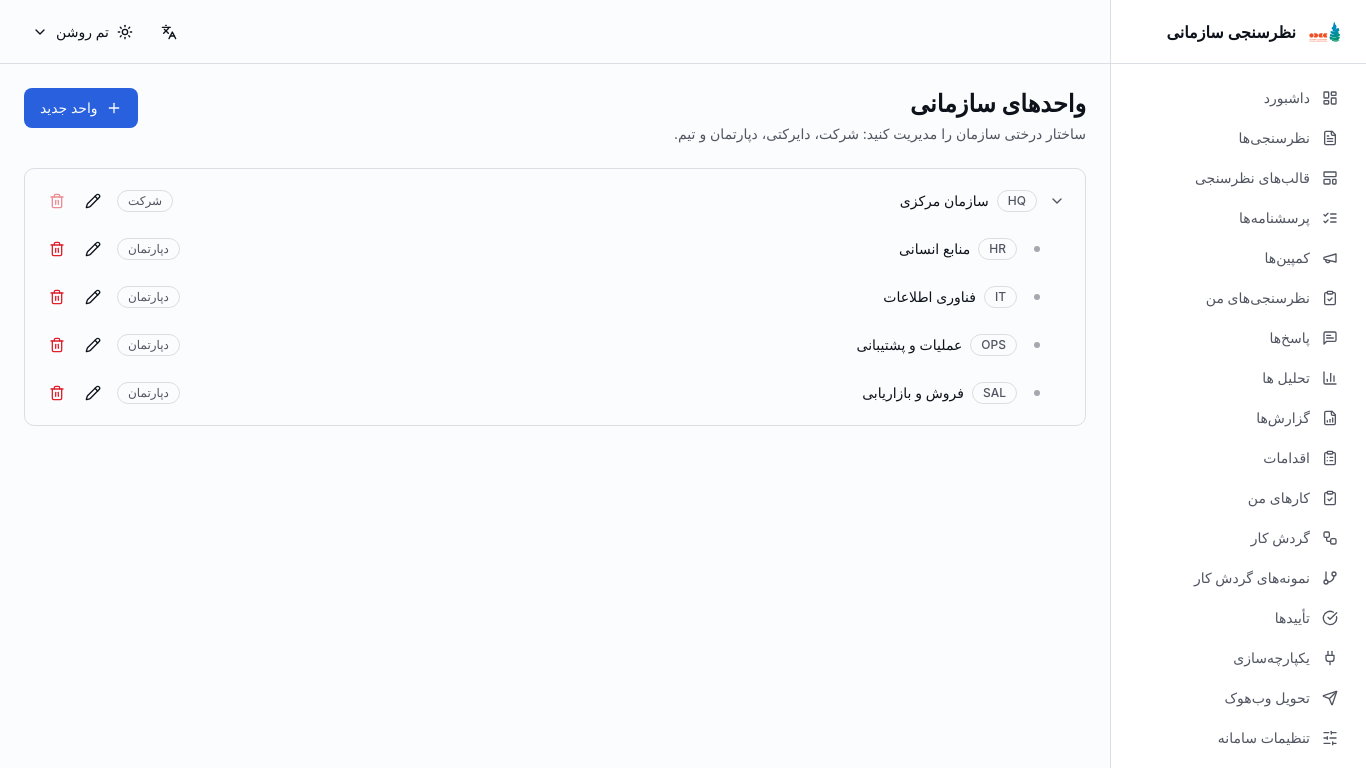
Test case: OrgUnitsPage › hides children when the branch is collapsed
The width and height of the screenshot is (1366, 768).
درخت پیش‌فرض باز است؛ دکمه اکنون شاخه را جمع می‌کند.
Click the button named "بستن": (1057, 201) [1045,189,1069,213]
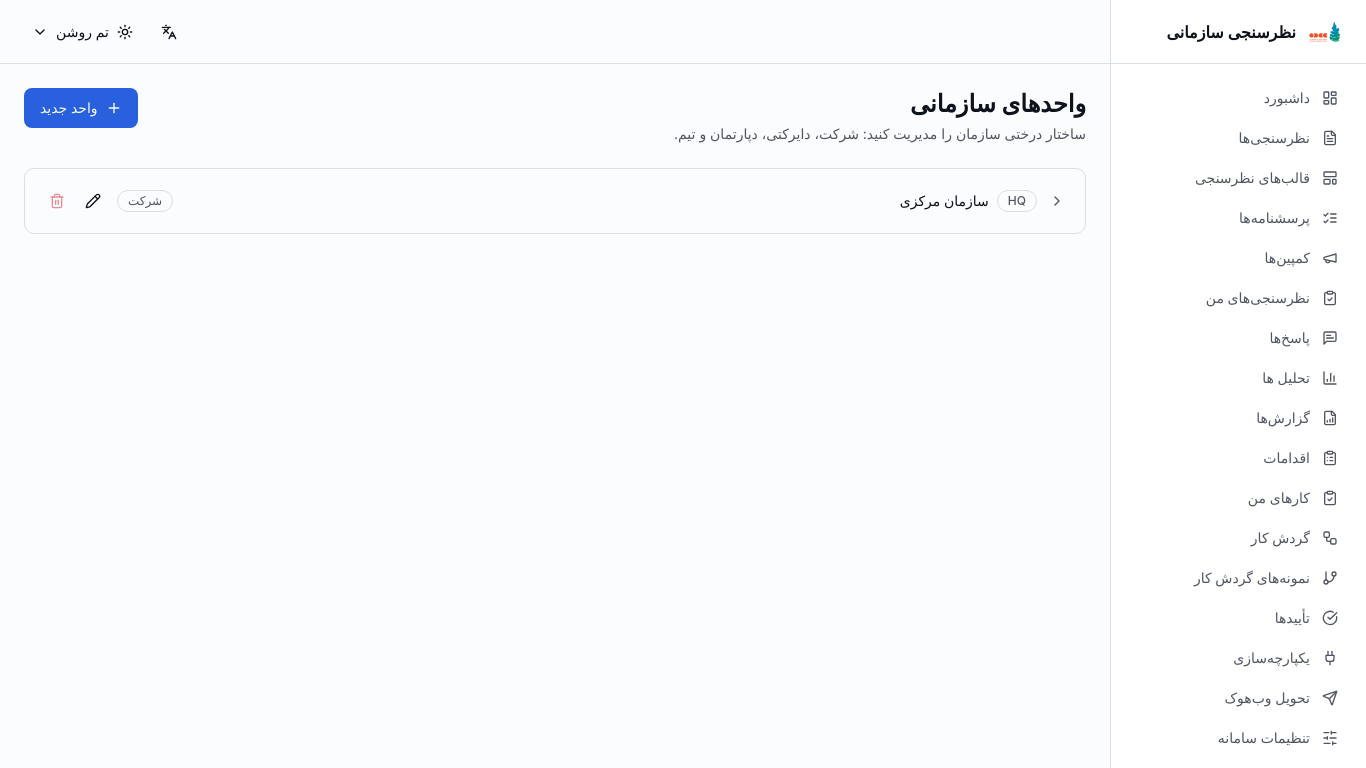
Expected: the text "HQ" is shown, [997,190,1037,212]
Result: the text "HR" is gone
Result: the text "SAL" is gone
